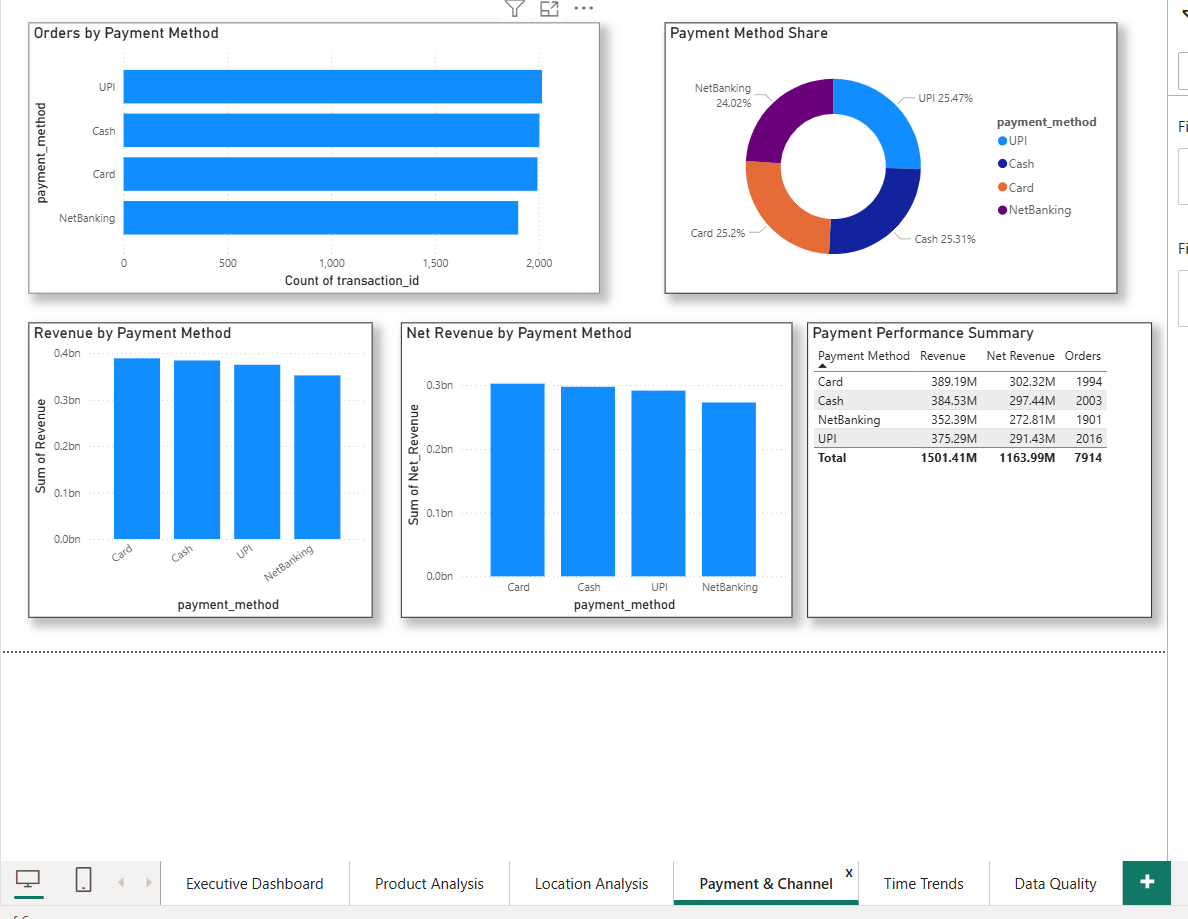

This screenshot's page, from the dashboard's own definition file:
{"tool":"powerbi","page":{"name":"Payment & Channel","canvas":[1280,720],"ordinal":3},"visuals":[{"type":"clusteredColumnChart","title":"Revenue by Payment Method","fields":{"Category":["retail_master_curated.payment_method"],"Y":["Sum(retail_master_curated.Revenue)"]},"box":[30.2,359.5,377.4,323.8],"z":0},{"type":"clusteredBarChart","title":"Orders by Payment Method","fields":{"Category":["retail_master_curated.payment_method"],"Y":["Count(retail_master_curated.transaction_id)"]},"box":[30.2,30.2,627.1,297.8],"z":1000},{"type":"clusteredColumnChart","title":"Net Revenue by Payment Method","fields":{"Category":["retail_master_curated.payment_method"],"Y":["Sum(retail_master_curated.Net_Revenue)"]},"box":[439.1,359.5,429.5,323.8],"z":2000},{"type":"donutChart","title":"Payment Method Share","fields":{"Category":["retail_master_curated.payment_method"],"Y":["Count(retail_master_curated.transaction_id)"]},"box":[728.6,30.2,496.7,297.8],"z":3000},{"type":"tableEx","title":"Payment Performance Summary","fields":{"Values":["retail_master_curated.payment_method","Sum(retail_master_curated.Revenue)","Sum(retail_master_curated.Net_Revenue)","Count(retail_master_curated.transaction_id)"]},"box":[885.1,359.5,378.7,323.8],"z":5000}]}

Visuals, with their boxes in screenshot pixels (x1, y1, x2, y2):
"Revenue by Payment Method" clusteredColumnChart: bbox=[25, 320, 370, 616]
"Orders by Payment Method" clusteredBarChart: bbox=[25, 18, 599, 291]
"Net Revenue by Payment Method" clusteredColumnChart: bbox=[399, 320, 792, 616]
"Payment Method Share" donutChart: bbox=[664, 18, 1118, 291]
"Payment Performance Summary" tableEx: bbox=[807, 320, 1154, 616]
